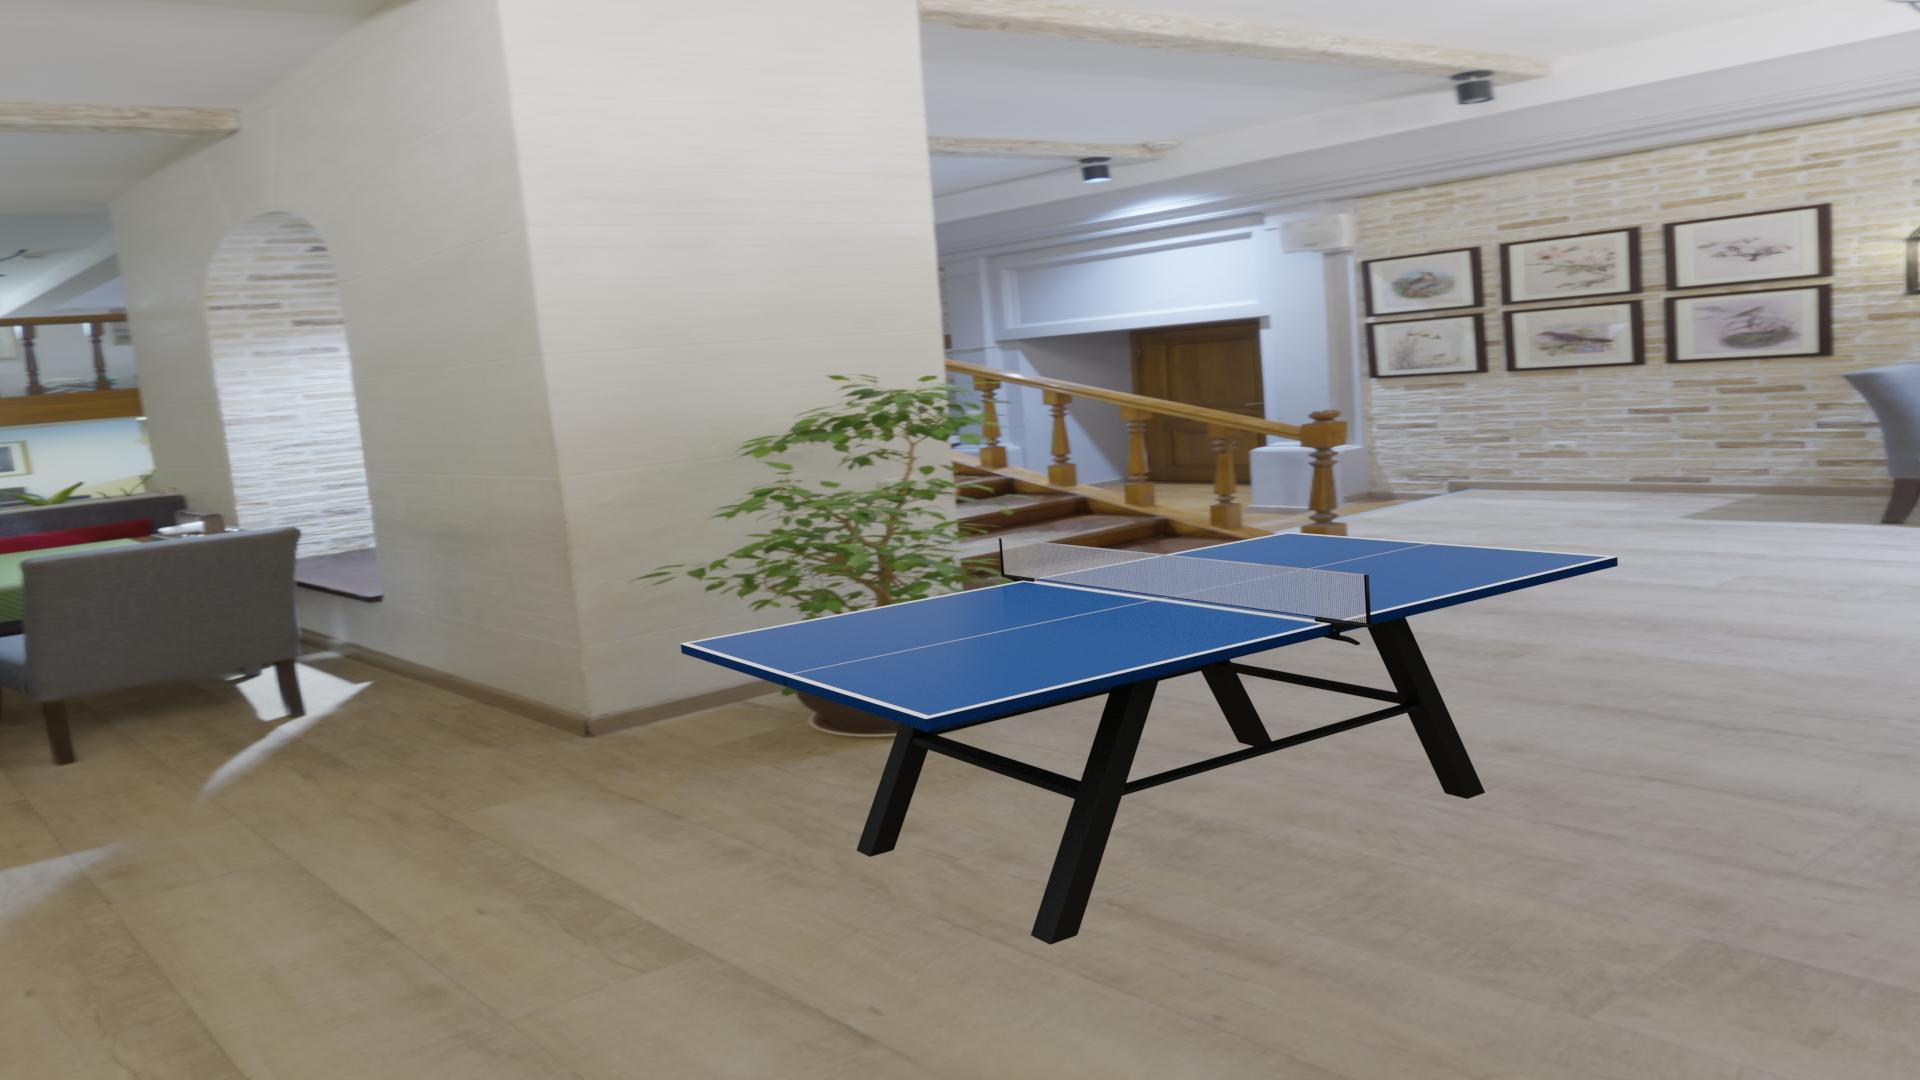table: (688, 533, 1609, 716)
